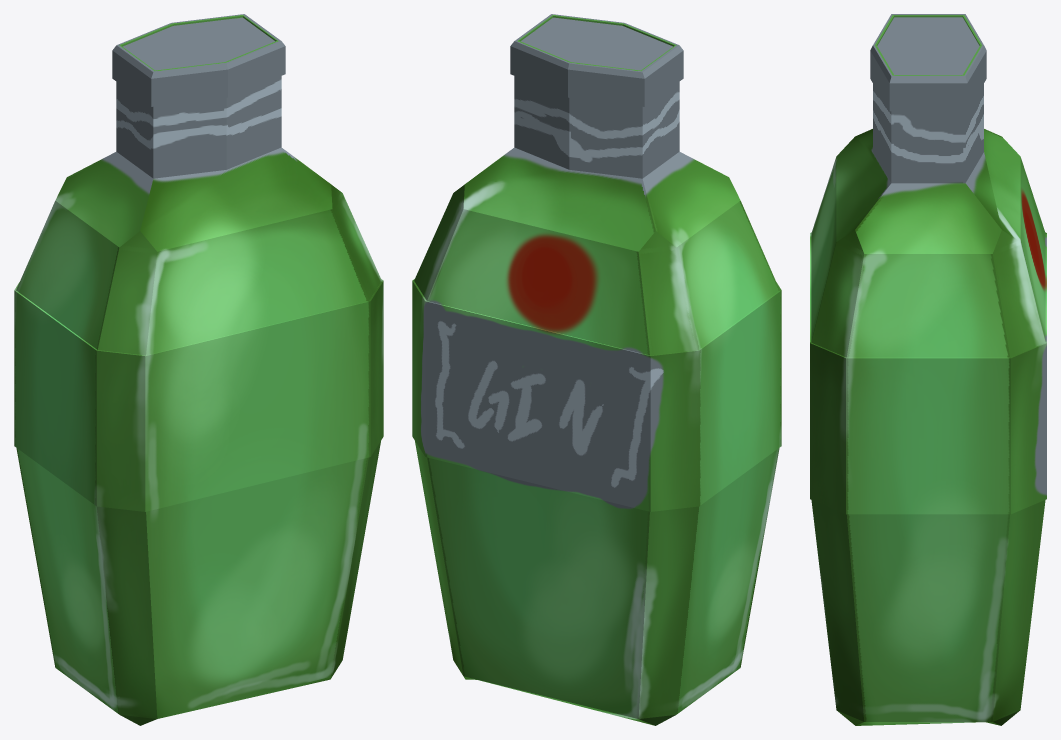
File: Gin.fbx
3 views of the same model, side by side, from view 1: azimuth 30°, elevation 25°; view 2: azimuth 150°, elevation 25°; view 3: azimuth 270°, elevation 25° (orthographic).
Visible parts, largest first — view 1: Bottiglia1_0; view 2: Bottiglia1_0; view 3: Bottiglia1_0.
Boxes of the visible parts, left/top/right/bottom form: Bottiglia1_0: left=14, top=14, right=383, bottom=725; Bottiglia1_0: left=412, top=14, right=781, bottom=725; Bottiglia1_0: left=810, top=14, right=1046, bottom=725.
Bounding box in the file's own units: 44.78 × 95.37 × 31.92.
